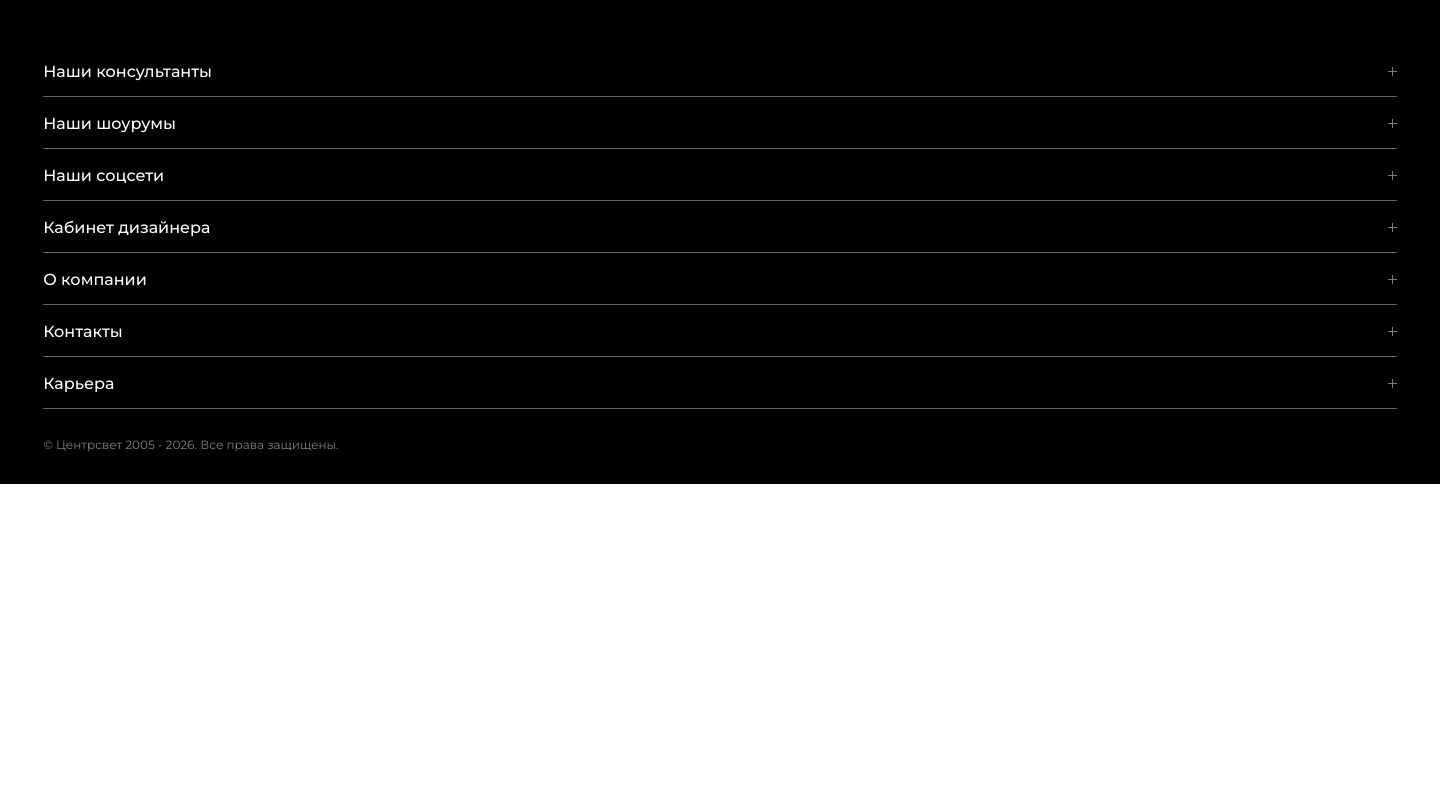
Test case: SiteFooter › в разделе «Контакты» вложенный список «Дилеры» раскрывается отдельно
The width and height of the screenshot is (1440, 808).
Click the heading "Контакты".
click(83, 332)  # box [43,322,123,341]
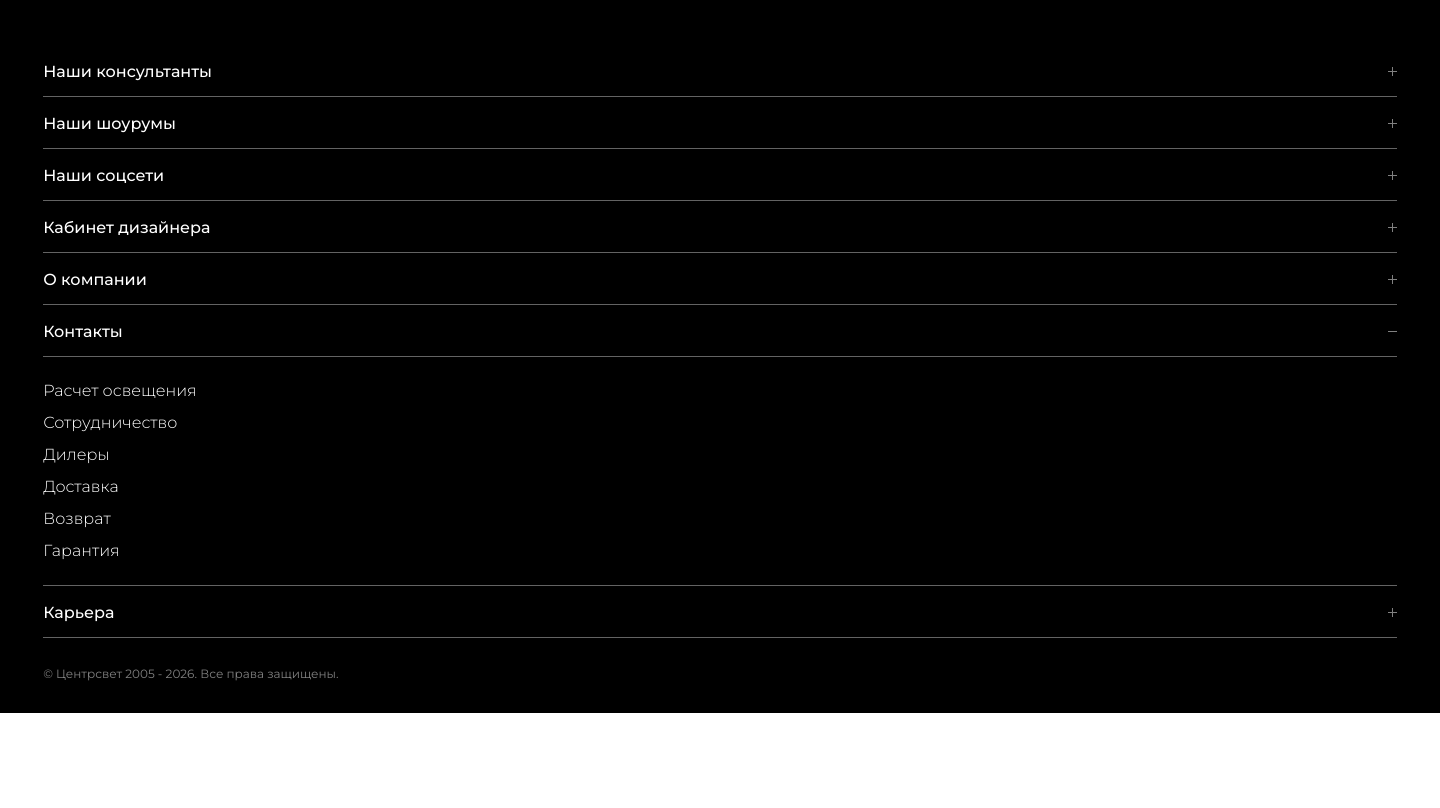
Expected: the text "Хабаровск" is not shown
Click the heading "Дилеры".
click(76, 454)  # box [43,445,110,464]
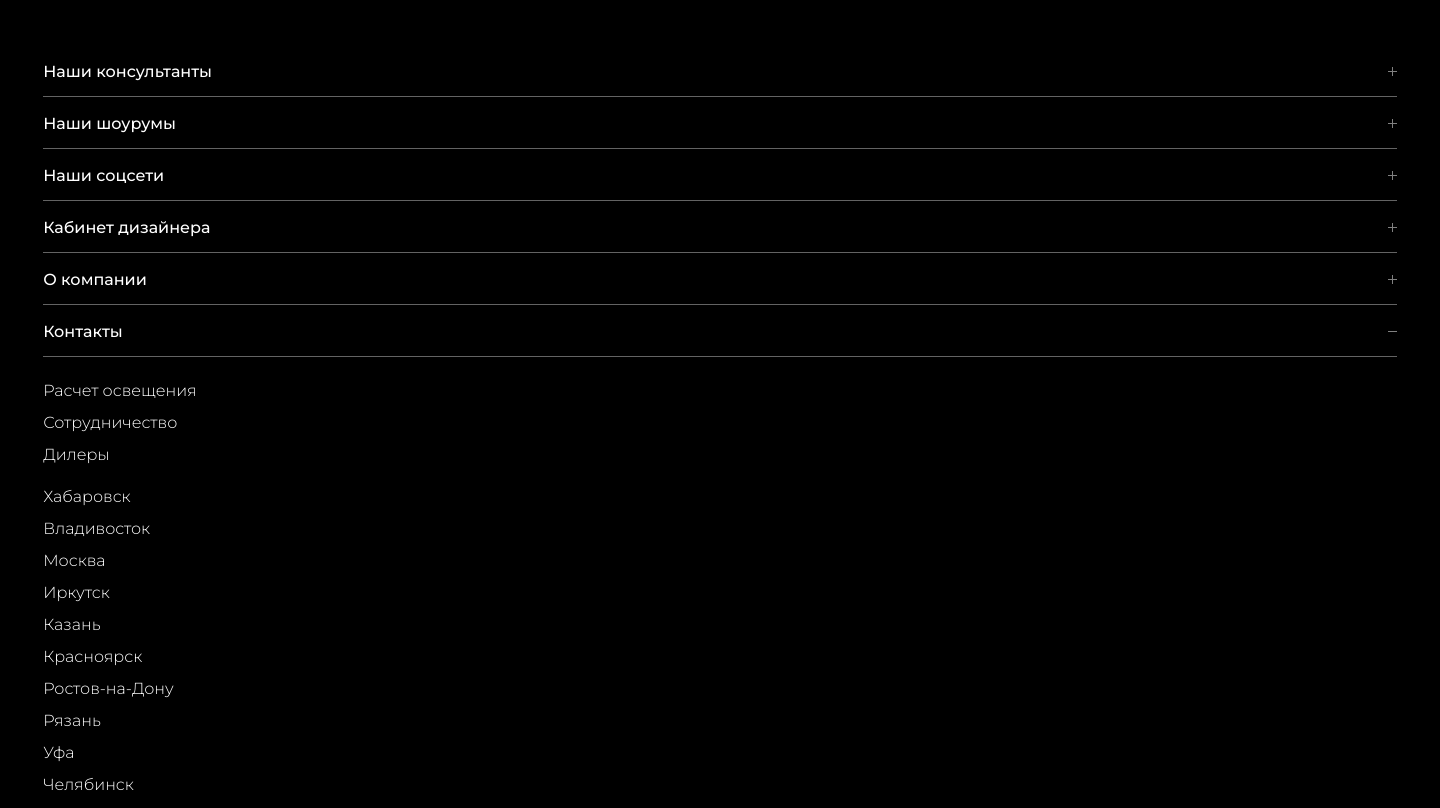
Now the link "Хабаровск" is shown, box [43,487,131,506]
